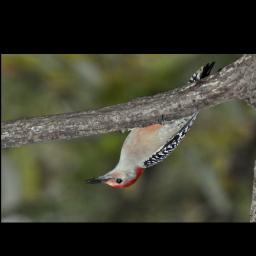Woodpecker: (83, 60, 216, 189)
